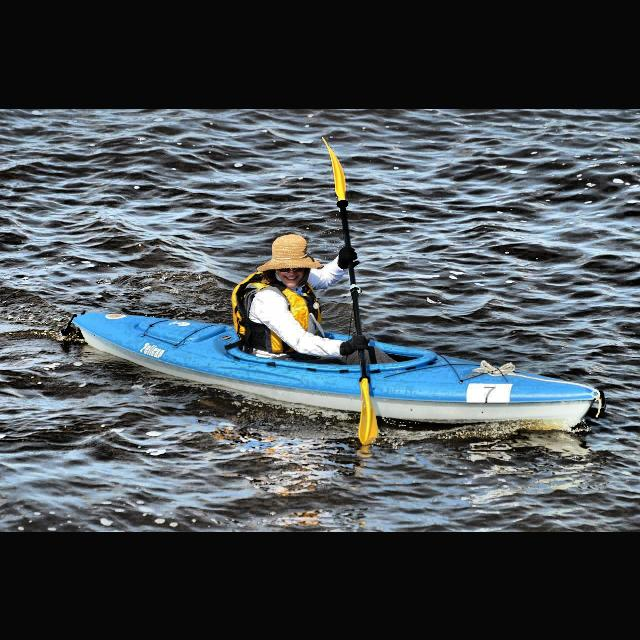kayak: (69, 308, 606, 430)
